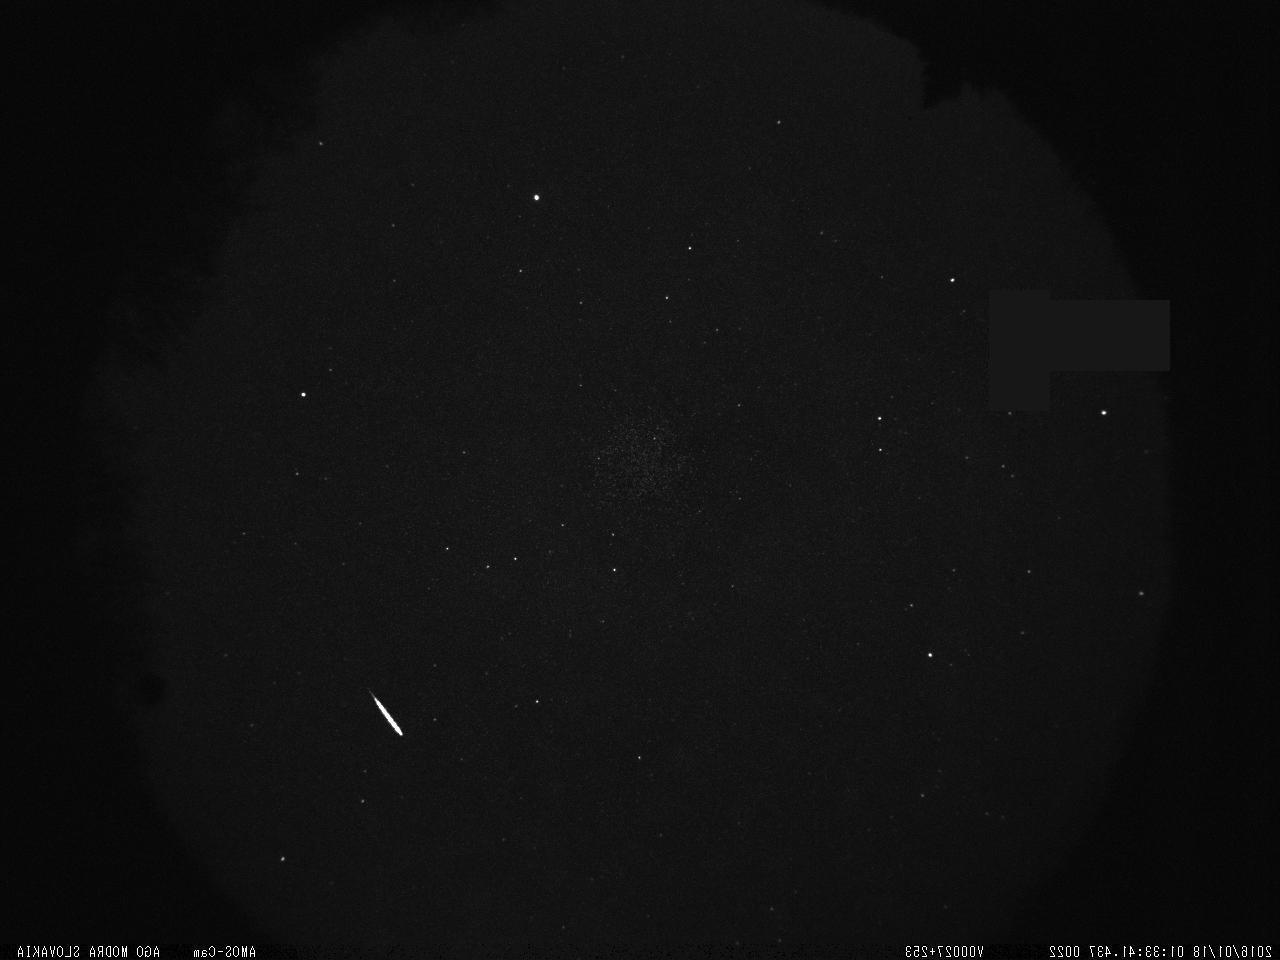meteor: (337, 668, 417, 764)
